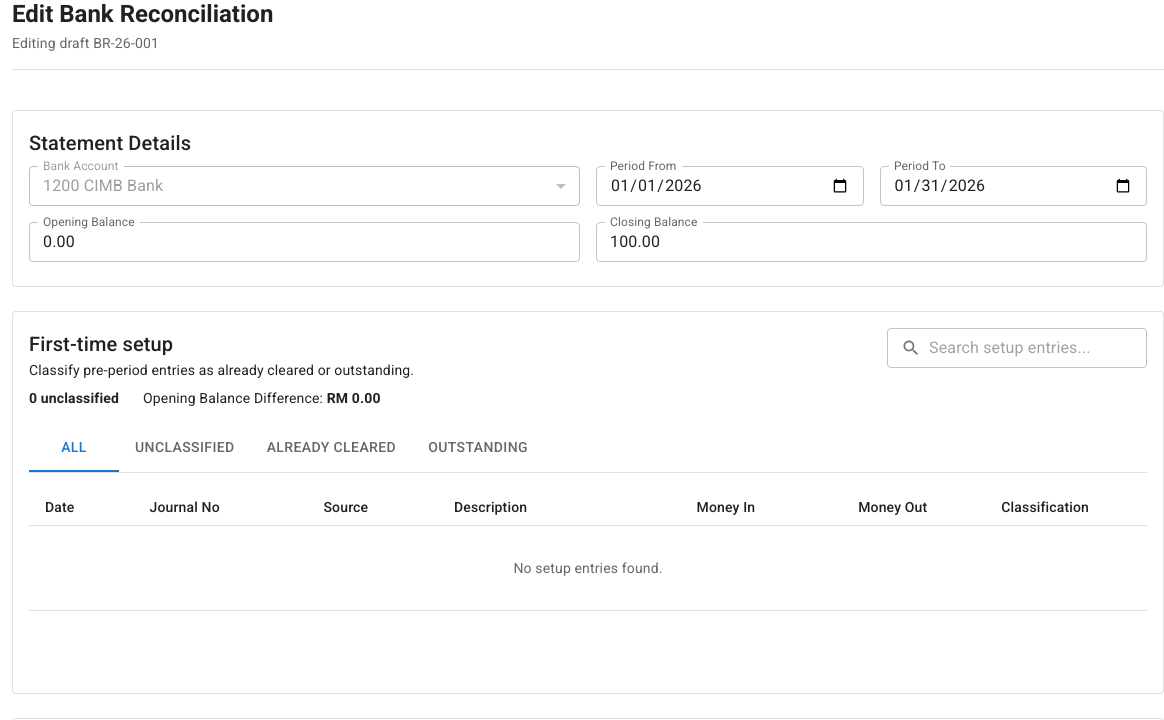
Test: BankReconciliationFormPage › preview and search request ordering › drops an older preview response that resolves after a newer one
# Period changes preview immediately, so two changes are two in-flight requests.
Step 1. Type "2026-01-20" into the date field labelled "Period To" → (1013, 186), box [880,166,1147,206]
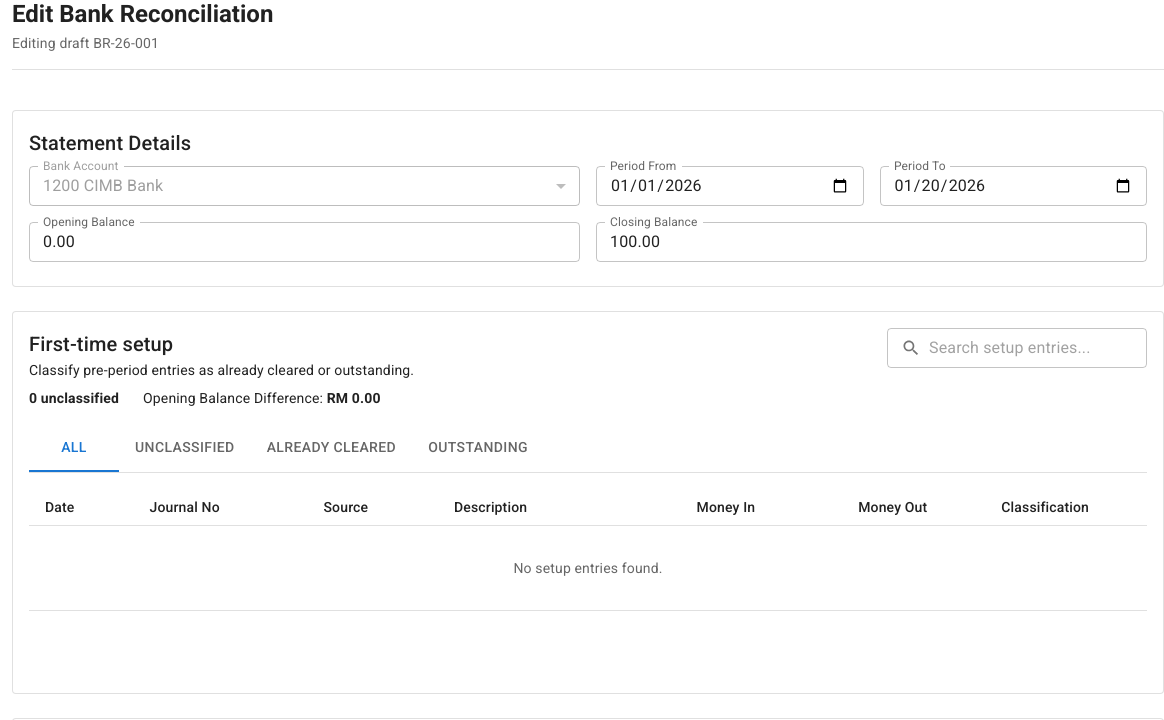
Step 2. Type "2026-01-10" into the date field labelled "Period To" → (1013, 186), box [880,166,1147,206]
(page scrolled)
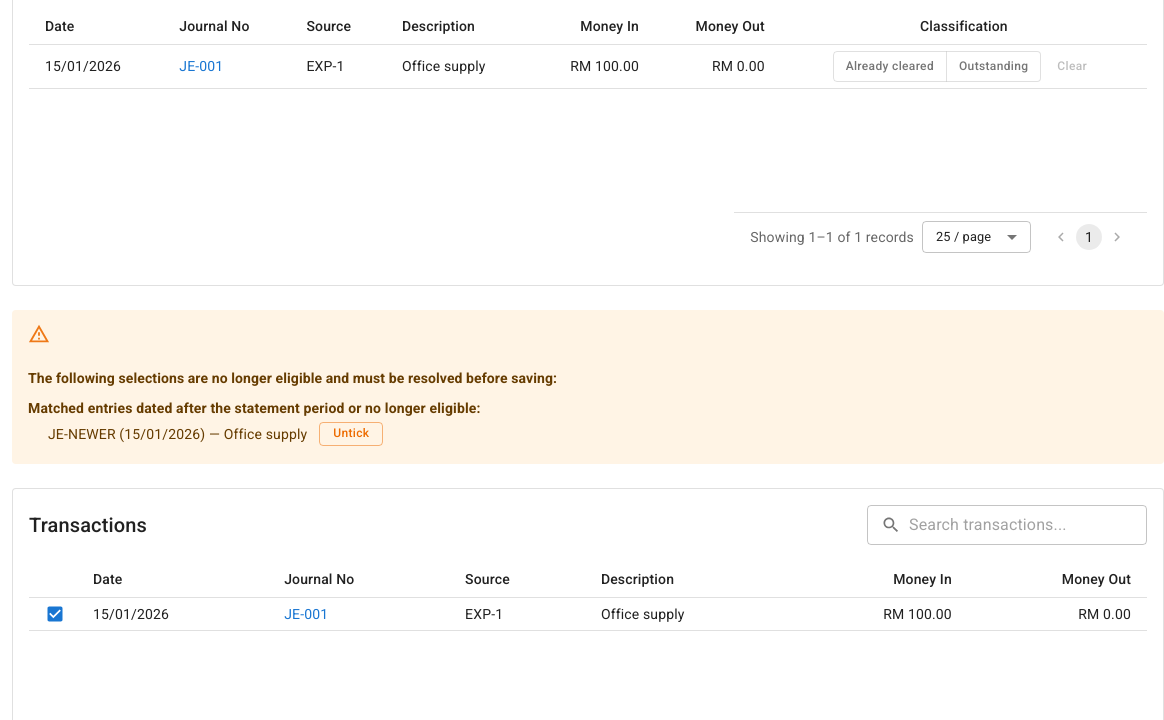
Expected: the text "JE-NEWER (15/01/2026) — Office supply" is shown, [48,424,307,444]
